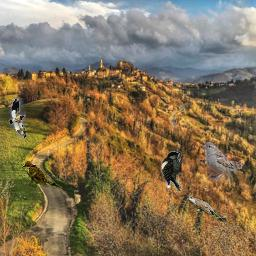Cuckoo: (22, 161, 62, 188), (186, 196, 226, 222)
Sparrow: (202, 142, 237, 182)
Woodpecker: (161, 151, 182, 191), (9, 98, 26, 138)
